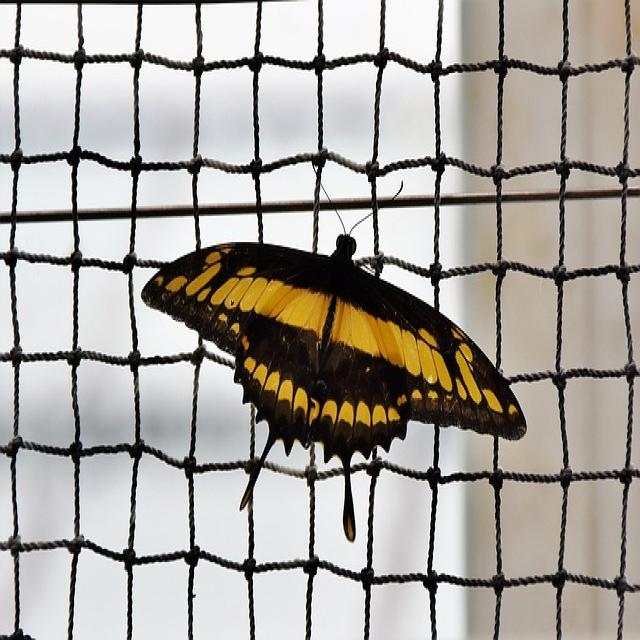butterfly: (140, 237, 526, 463)
